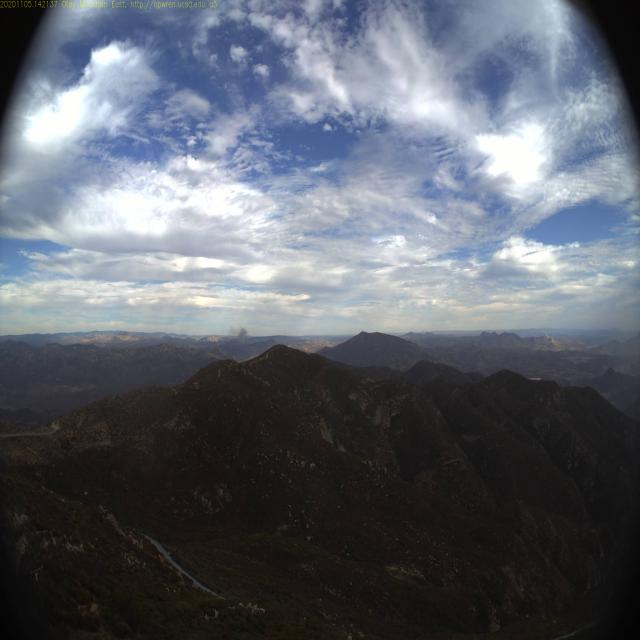smoke: (236, 326, 248, 343), (228, 324, 235, 338)
